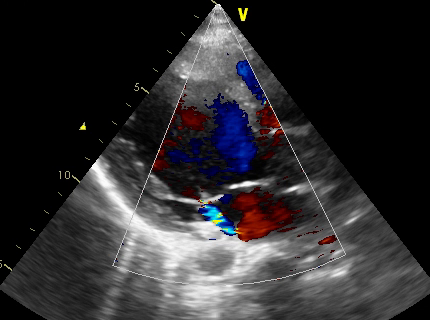MR: (199, 184, 236, 235)
